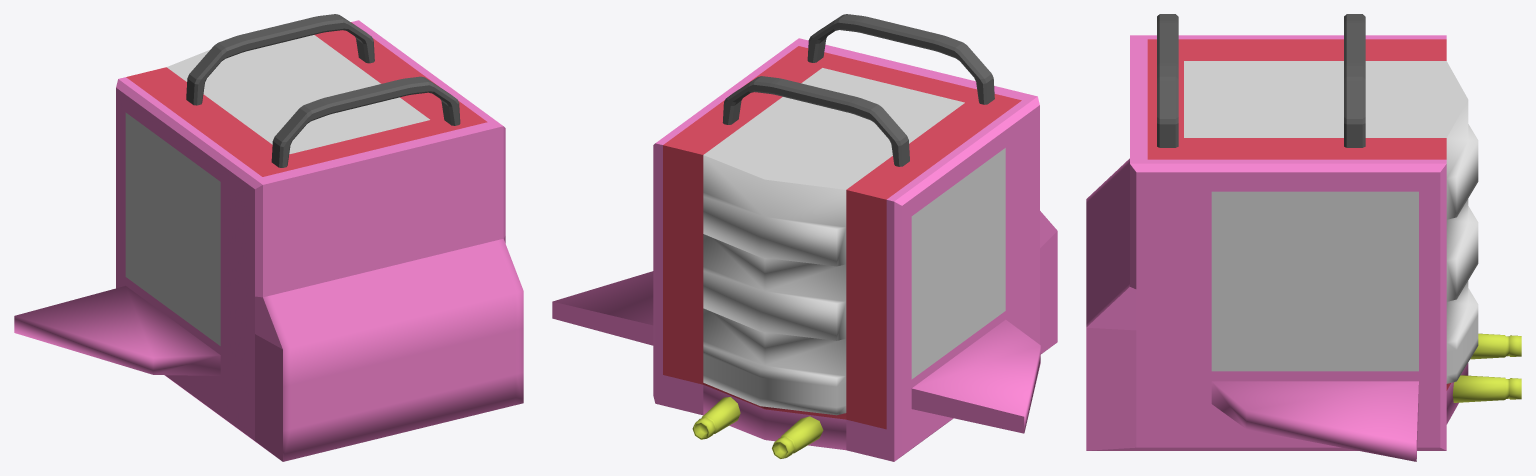
File: wagonstar.fbx
3 views of the same model, side by side, from view 1: azimuth 30°, elevation 25°; view 2: azimuth 150°, elevation 25°; view 3: azimuth 270°, elevation 25° (orthographic). The views are drawn at different scales.
Parts seen in each view (by area): view 1: wagonstar; view 2: wagonstar; view 3: wagonstar.
Part boxes in pixels (bbox=[...]): wagonstar: bbox=[14, 14, 523, 461]; wagonstar: bbox=[552, 14, 1057, 461]; wagonstar: bbox=[1086, 14, 1521, 461].
Bounding box in the file's own units: 379 × 239 × 275.
